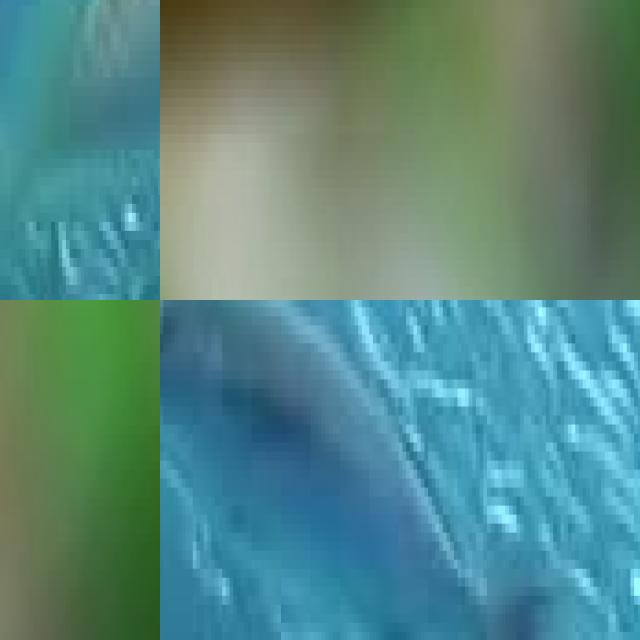fish: (160, 300, 604, 640), (0, 0, 160, 300)
